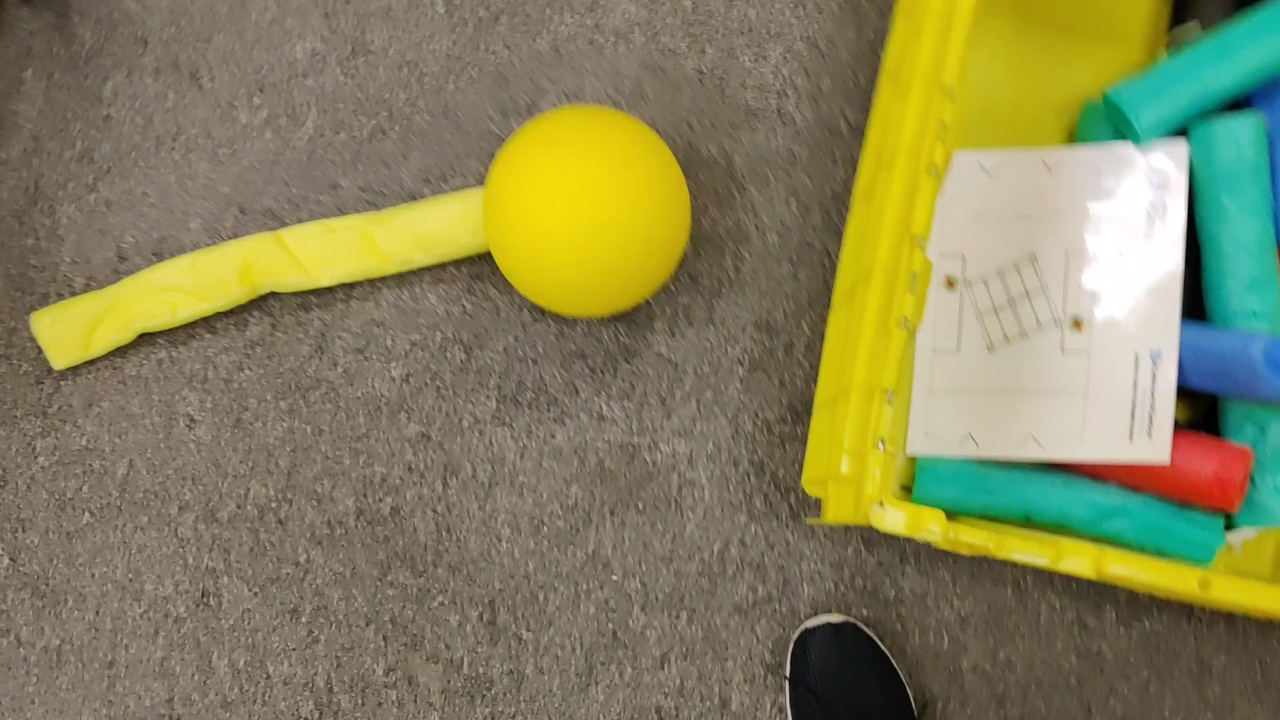Ball: (486, 107, 694, 303)
